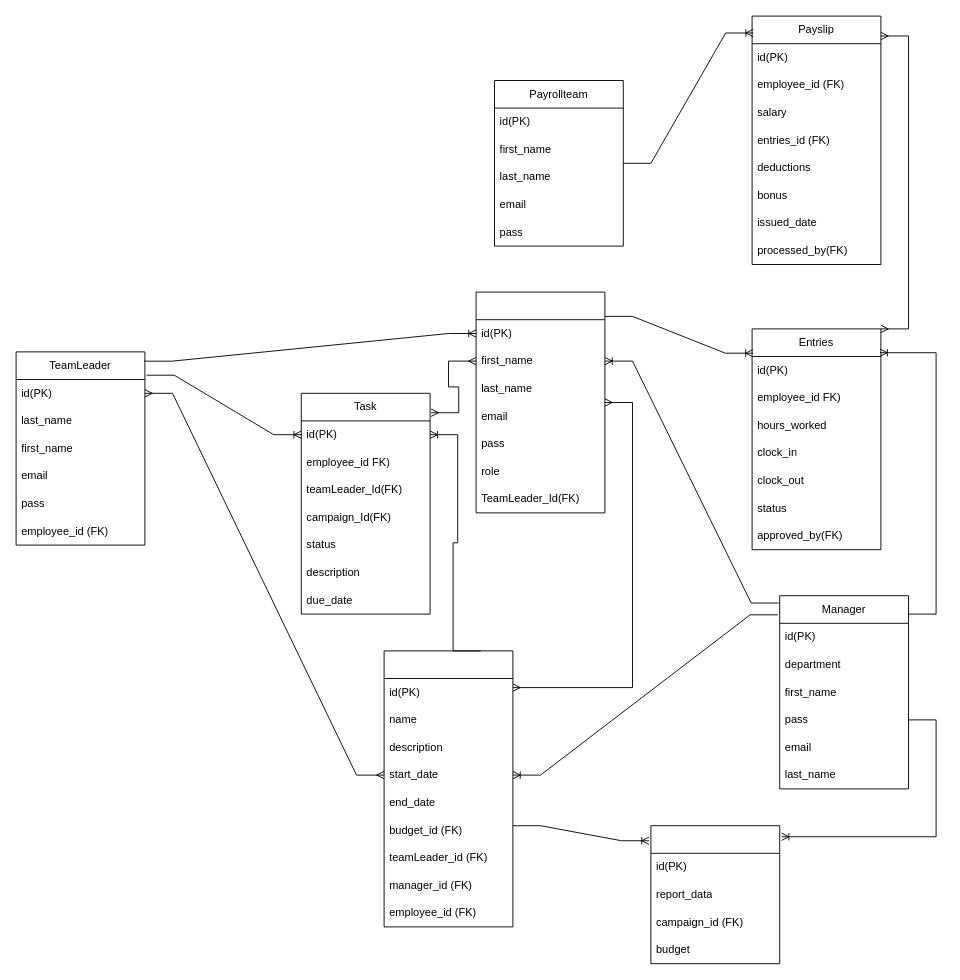
The diagram is 960 pixels wide and 980 high, and some of its shapes have lost their labels. Each missing label, with the box of its shape:
Campaign: (383, 650, 513, 927)
Campaign Report: (650, 825, 780, 964)
Employee: (475, 291, 605, 513)
